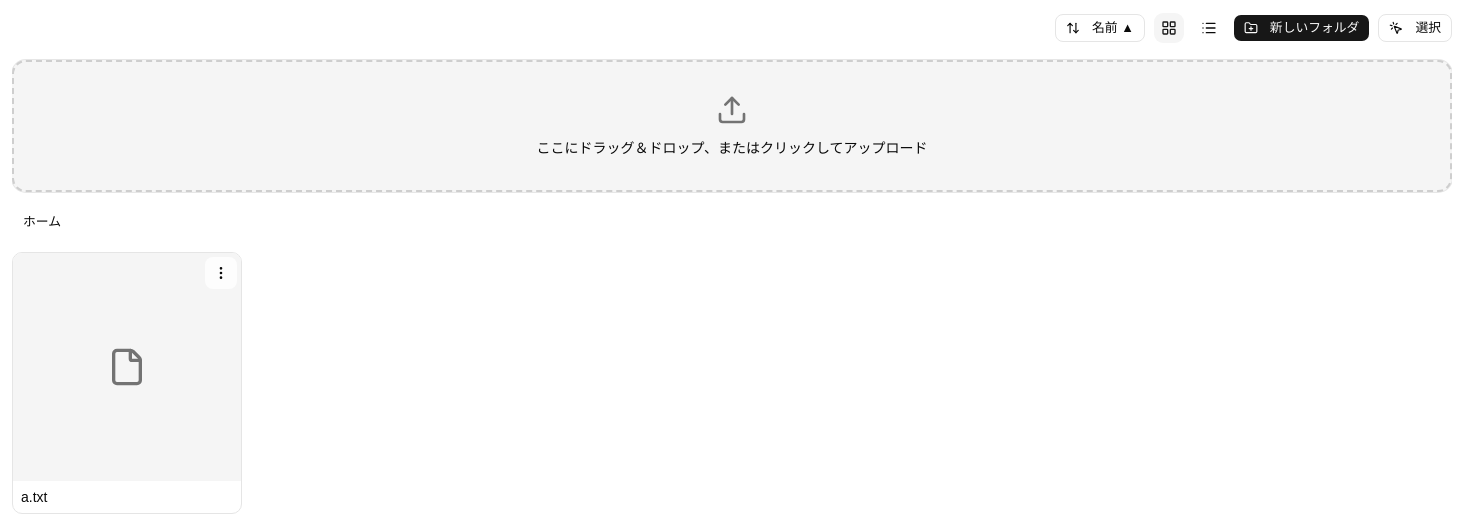
Test: FileBrowser › 切替ボタンで表示が切り替わり localStorage に保存される
The width and height of the screenshot is (1464, 531).
Expected: the text "a.txt" is shown, [21, 489, 48, 505]
Click the button named "テーブル表示".
click(1209, 28)  # box [1193, 12, 1225, 44]
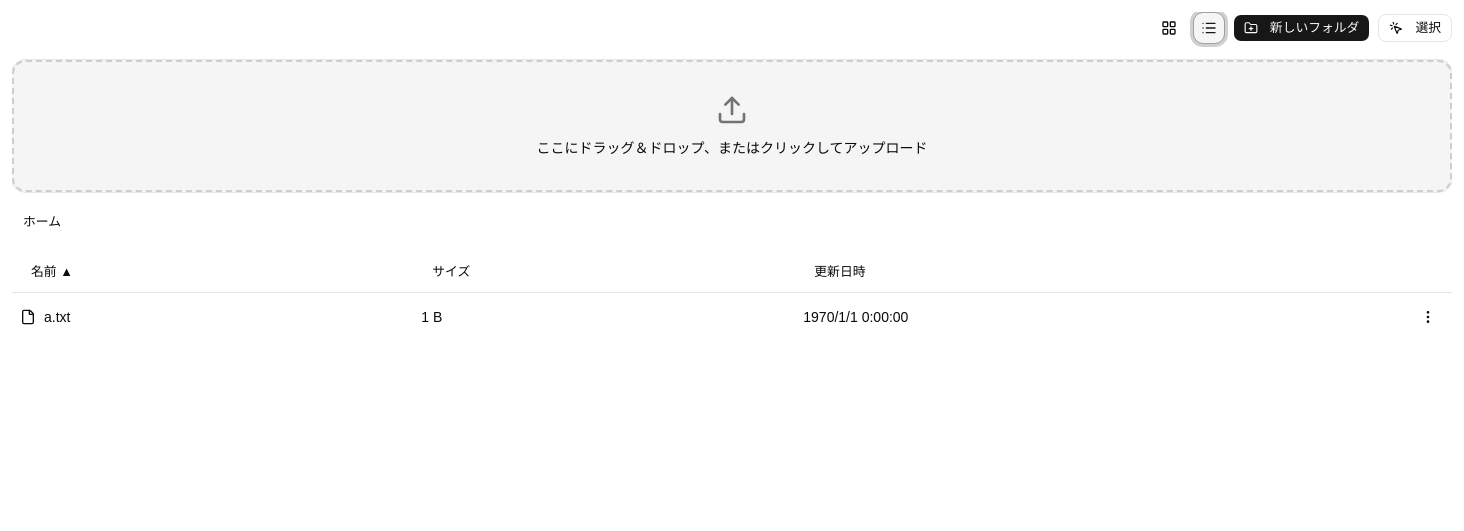
Result: the table is shown at [12, 252, 1452, 340]
Click the button named "グリッド表示".
click(1169, 28)  # box [1153, 12, 1185, 44]
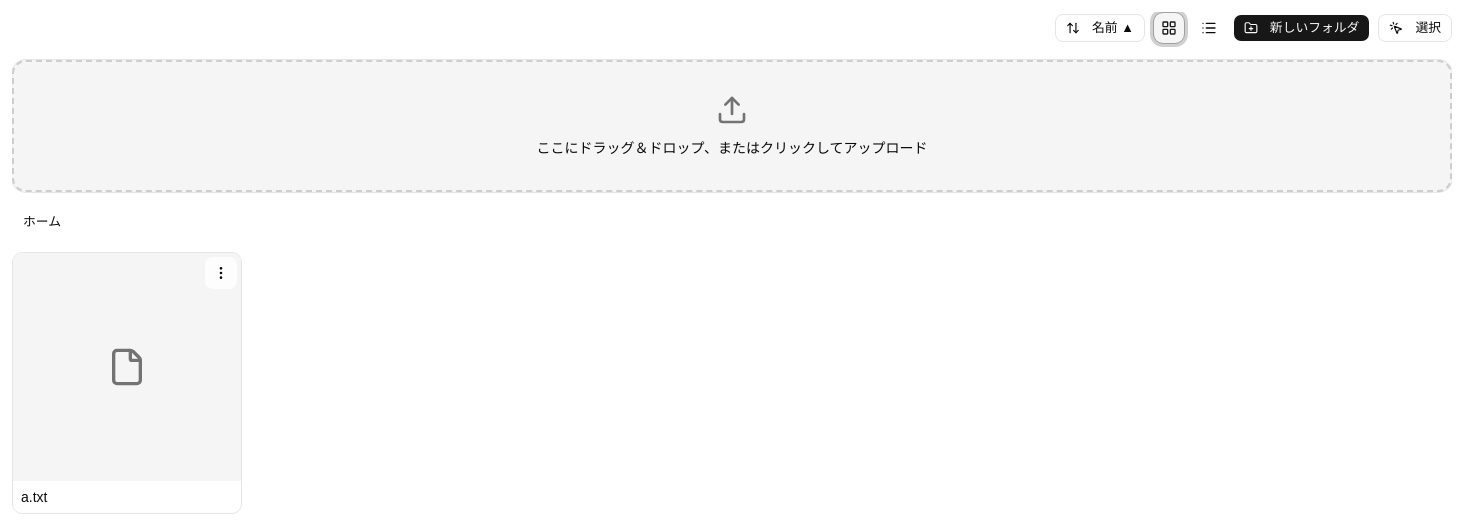
Result: the table is gone
